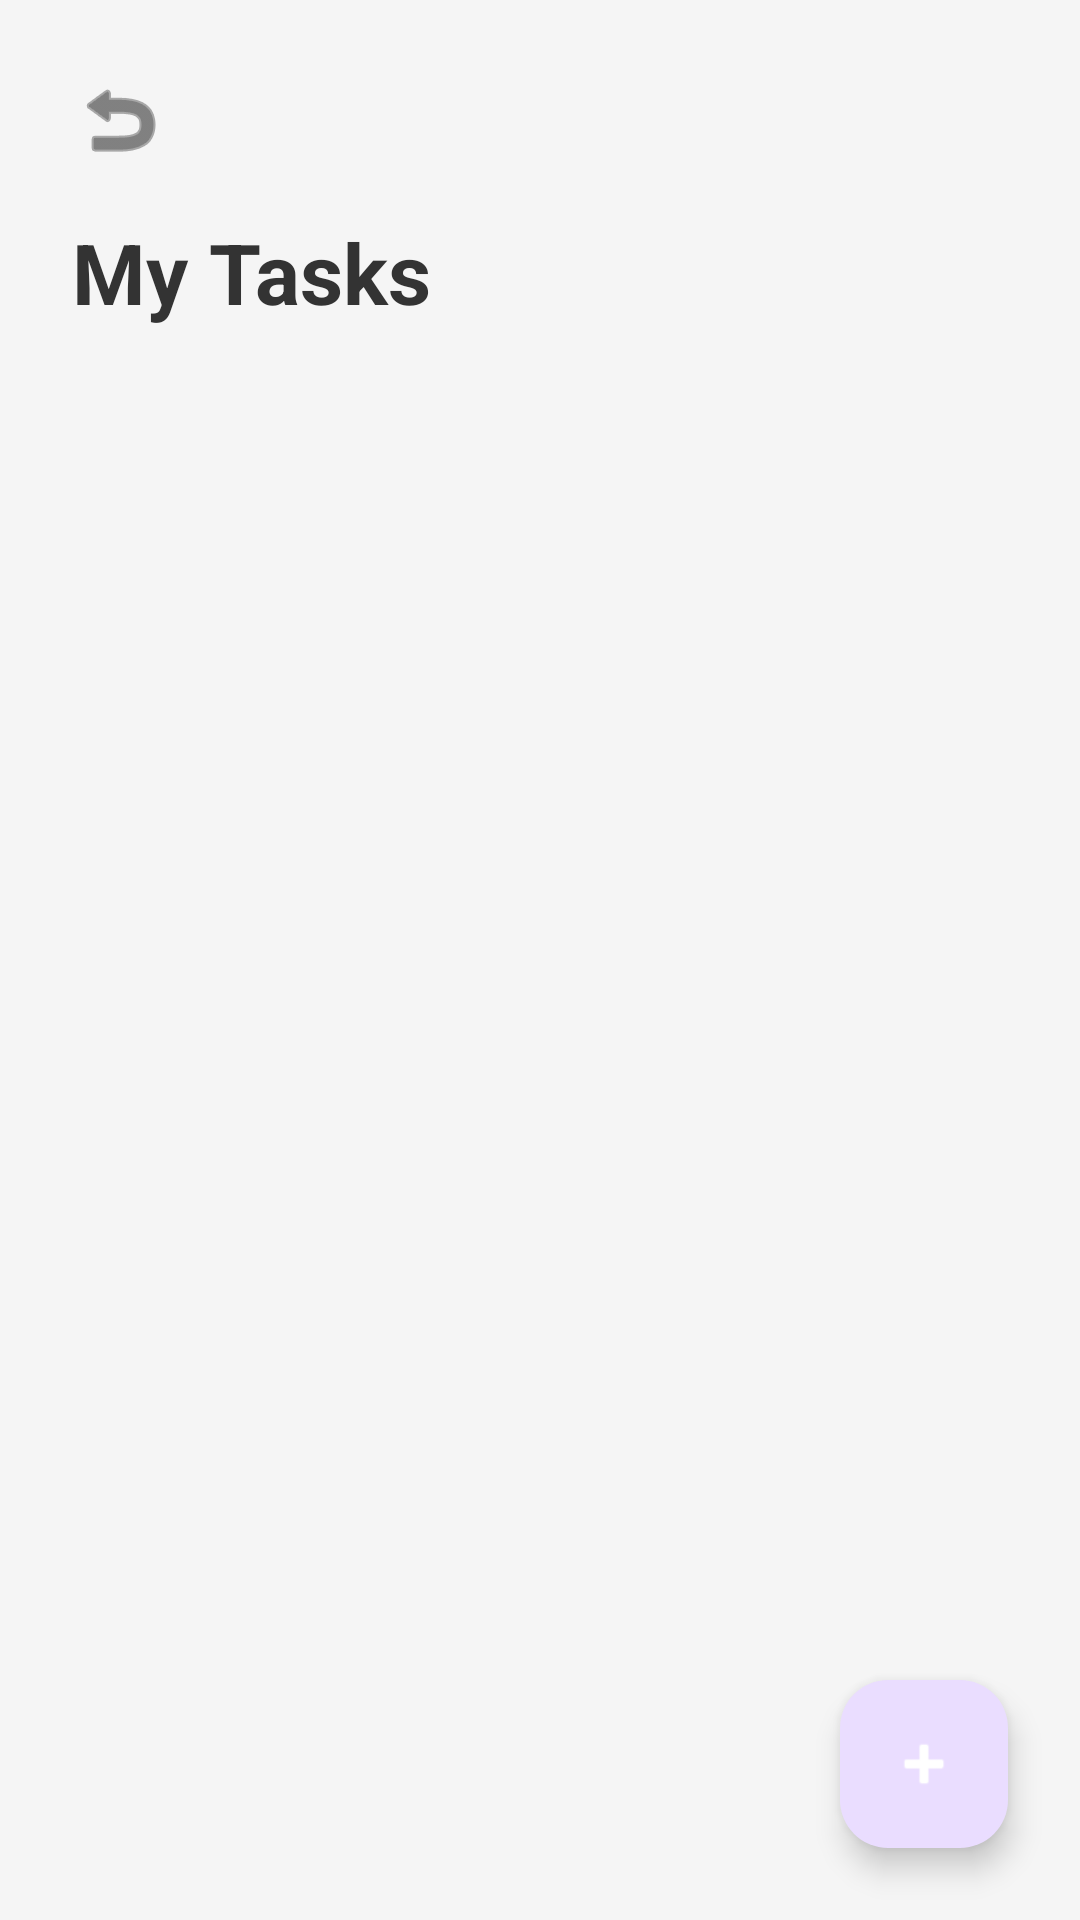

Where icons sit on this 1080px×1920px app screen, as (x1,y1,x2,y2):
Add Task: (840,1680,1008,1848)
Back: (87,89,156,152)
